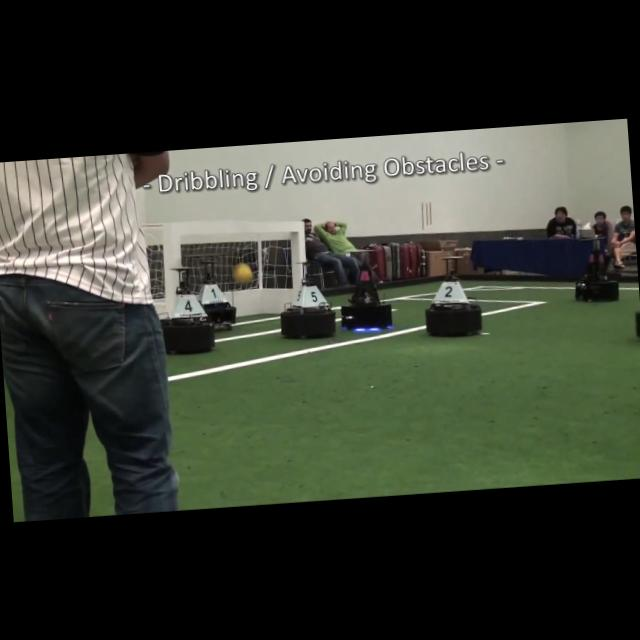ball: (232, 262, 253, 283)
robot: (425, 254, 482, 336), (161, 267, 214, 354), (340, 251, 392, 329), (281, 262, 334, 338), (575, 238, 618, 301), (198, 260, 235, 330)
